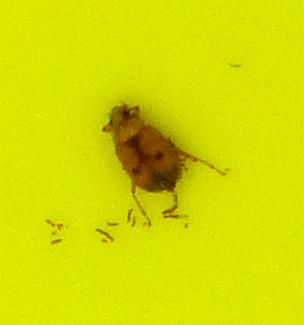Coleoptera: (100, 100, 204, 225)
